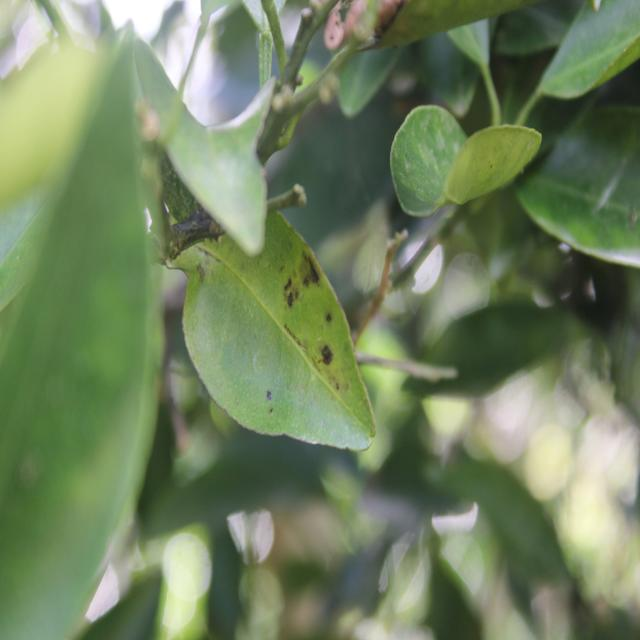melanose: (171, 190, 372, 438)
